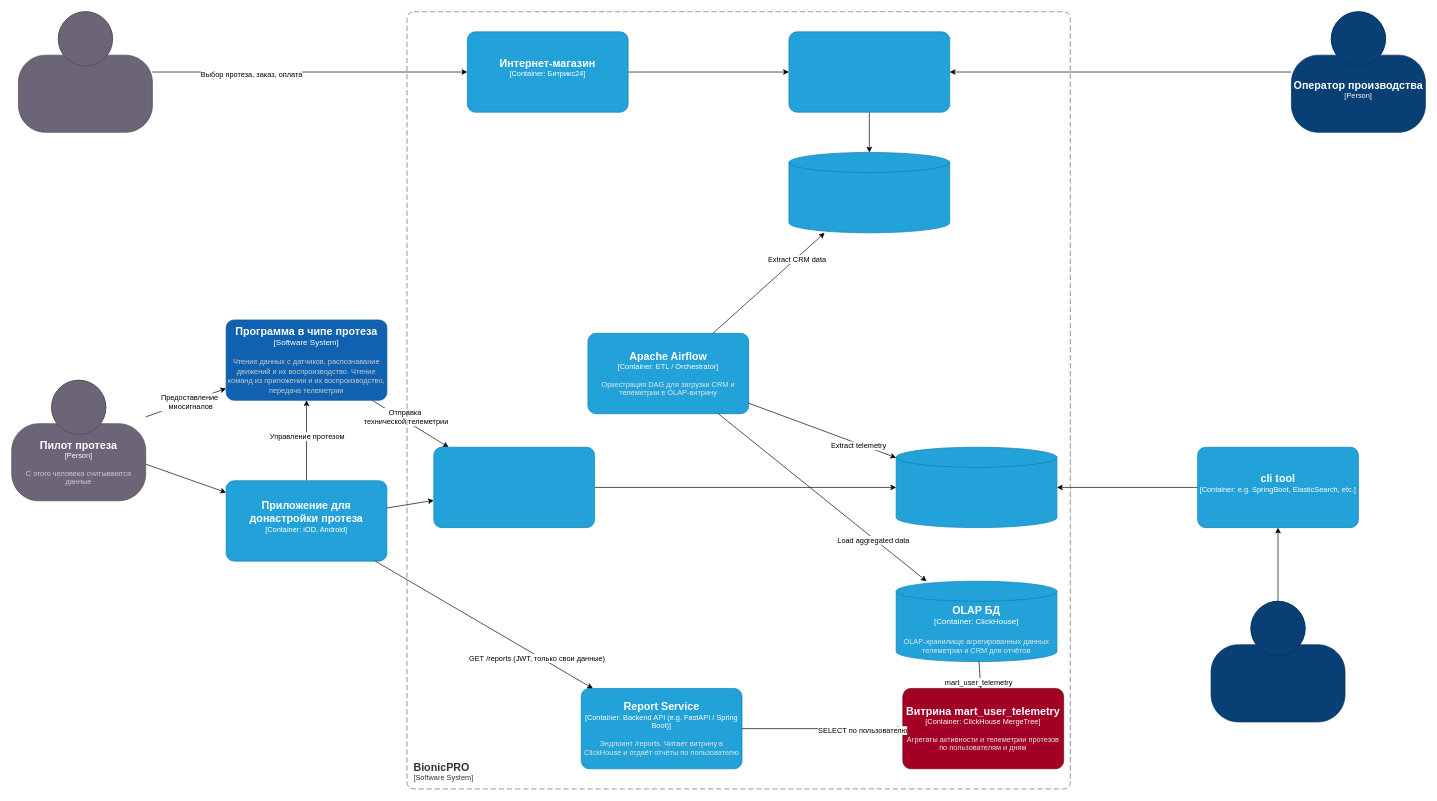
Image size: 1437x801. Some labels were removed from this diagram. Each missing label, with the box of its shape:
API [Container: e.g. SpringBoot, ElasticSearch, etc.]: (433, 447, 595, 528)
CRM [Container: Битрикс24]: (788, 31, 950, 112)
CRM DB [Container: e.g. Oracle Database 12]: (788, 152, 950, 233)
ML-инженер [Person]: (1210, 601, 1345, 722)
База данных [Container: PostgreSQL]: (895, 447, 1057, 528)
Покупатель протеза [Person]: (18, 11, 152, 132)
